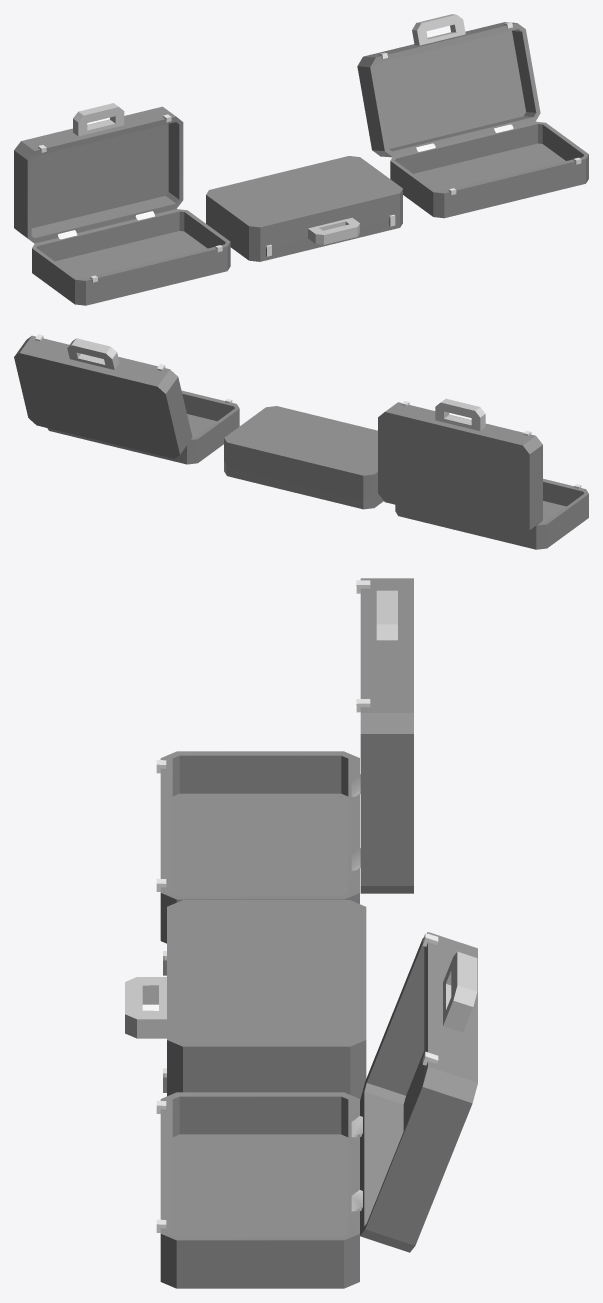
File: Suitcase.FBX
The picture shows the model from 3 angles, top to bottom: view 1: azimuth 30°, elevation 25°; view 2: azimuth 150°, elevation 25°; view 3: azimuth 270°, elevation 25°; orthographic projection. The views are drawn at different scales.
Visible parts, largest first — view 1: Box004, Box001, Box003; view 2: Box001, Box004, Box003; view 3: Box004, Box001, Box003.
Boxes of the visible parts, left/top/right/bottom form: Box004: left=357, top=14, right=588, bottom=218; Box001: left=14, top=103, right=230, bottom=305; Box003: left=206, top=156, right=402, bottom=261; Box001: left=378, top=398, right=588, bottom=549; Box004: left=14, top=334, right=239, bottom=464; Box003: left=224, top=406, right=383, bottom=509; Box004: left=156, top=932, right=477, bottom=1288; Box001: left=156, top=578, right=413, bottom=943; Box003: left=125, top=900, right=366, bottom=1100.
Size of the model in its own units: 329 by 83.77 by 100.
